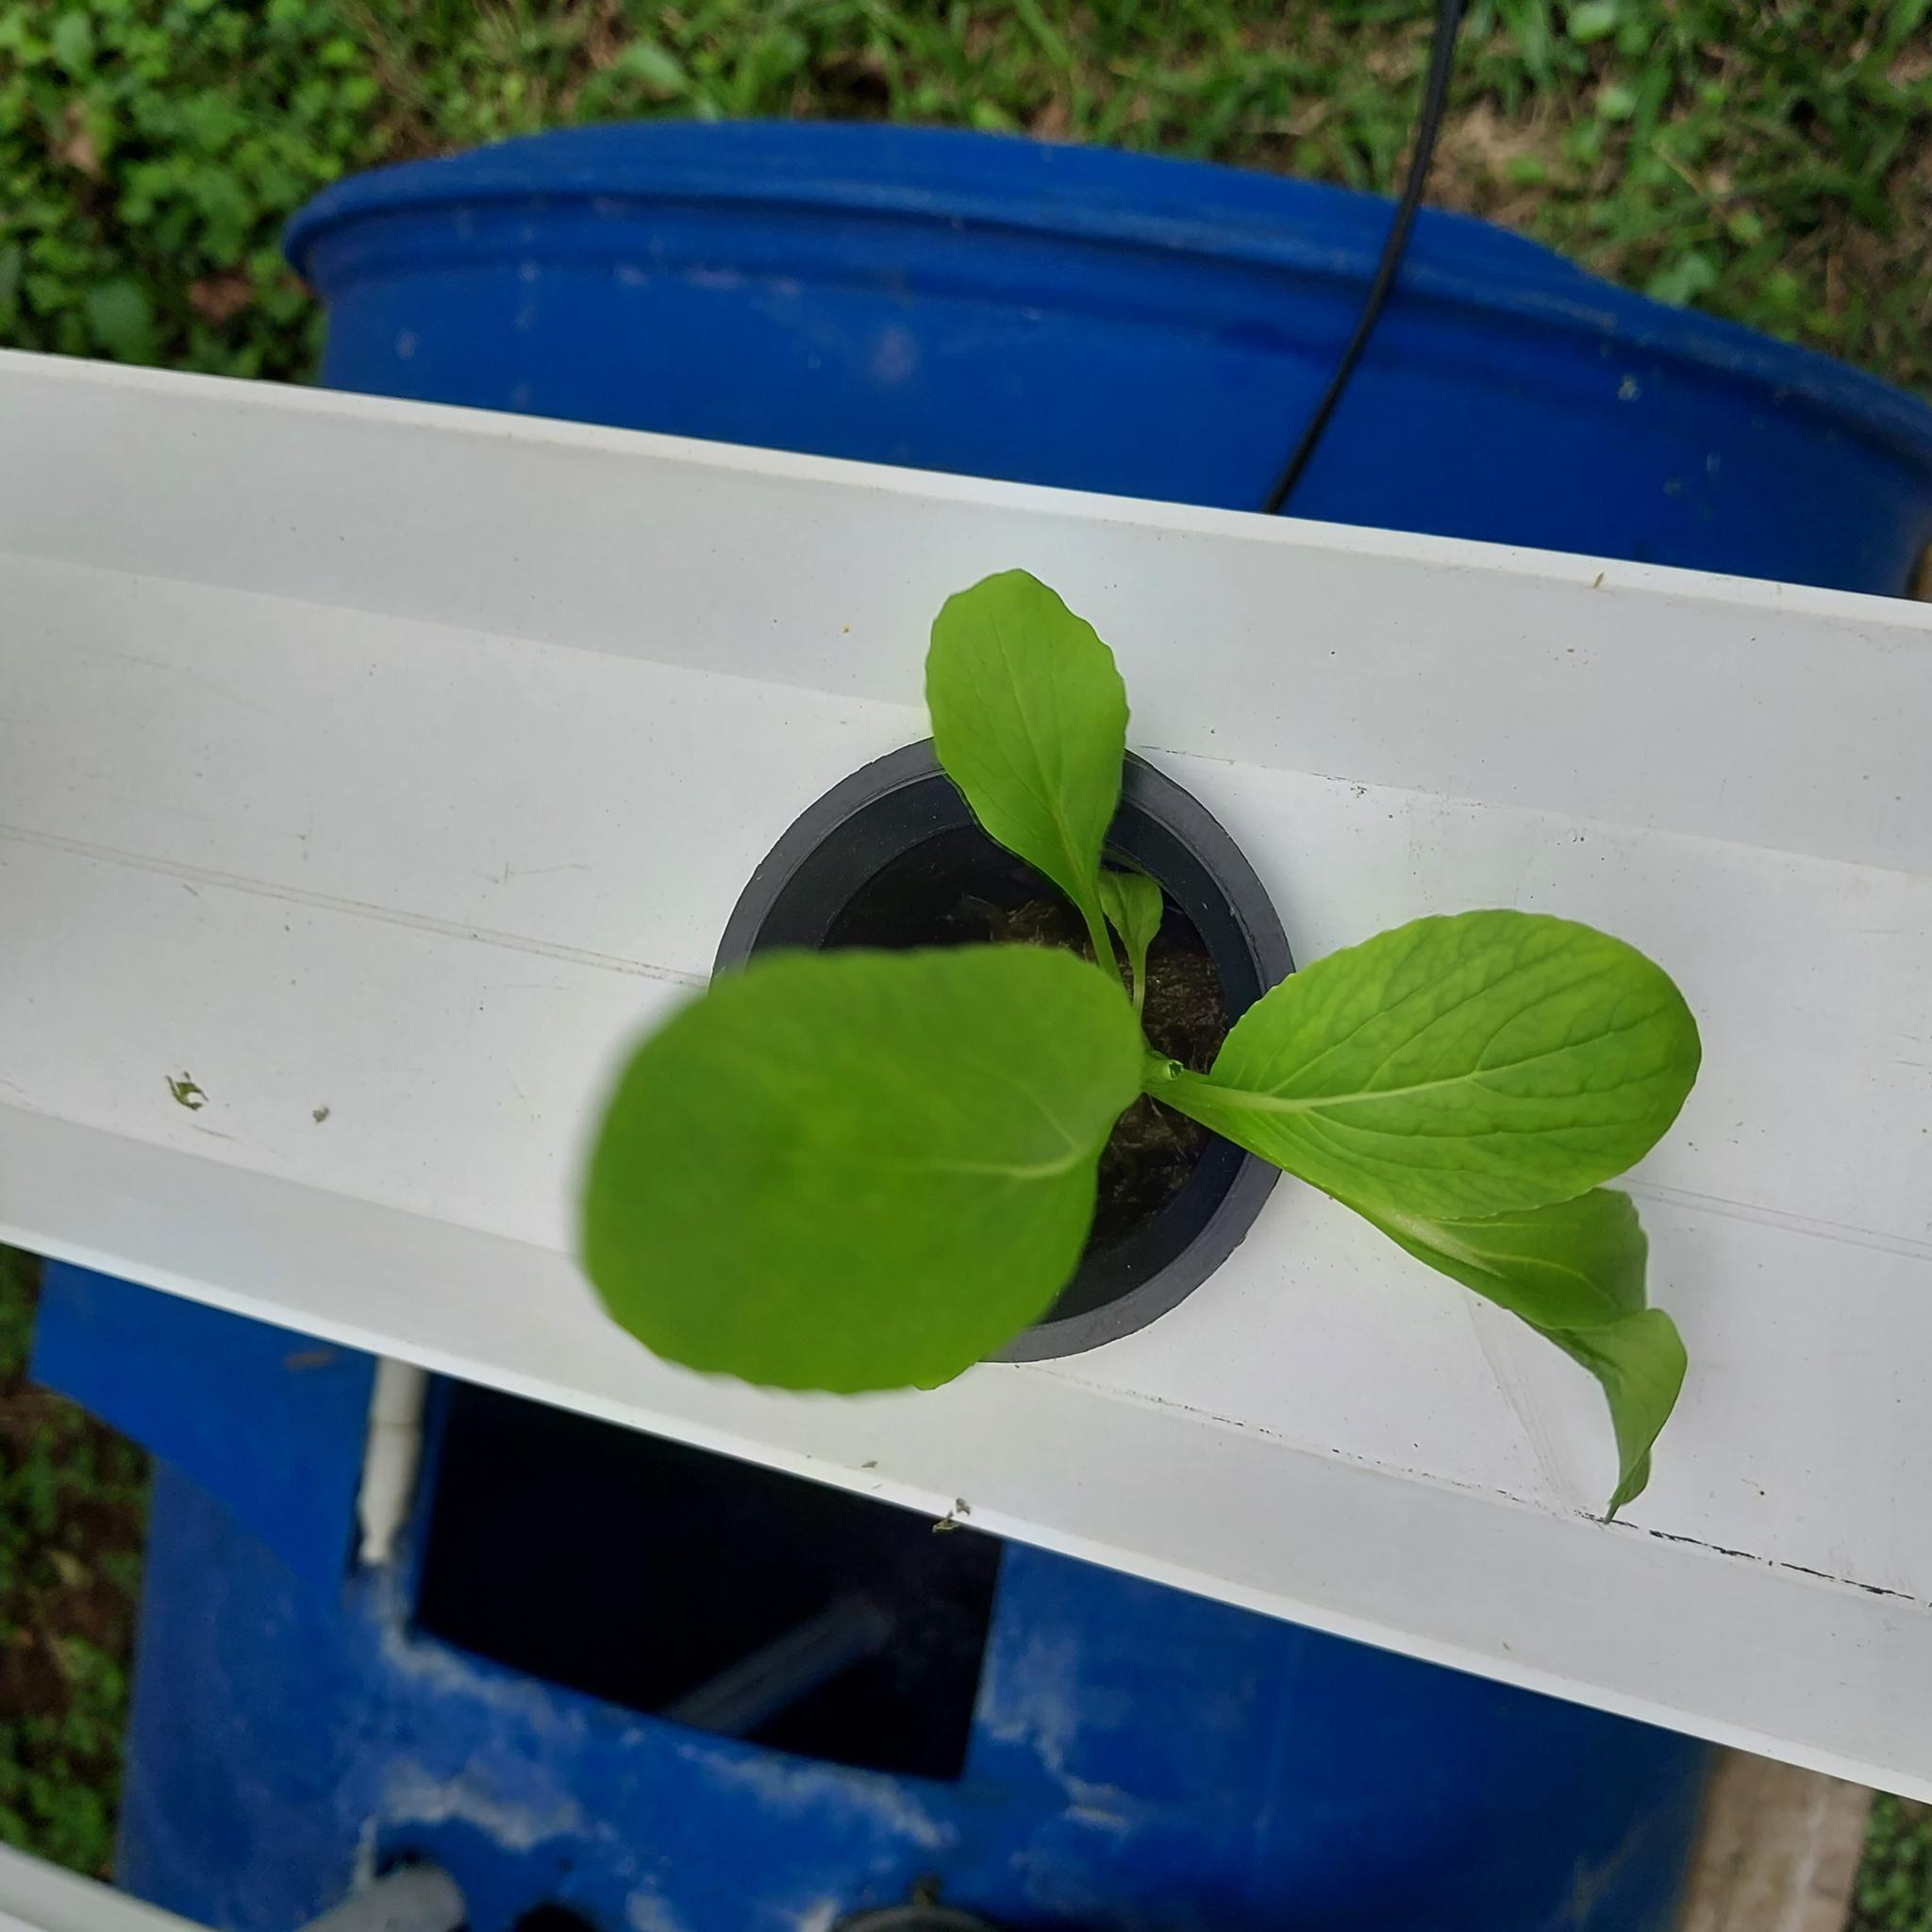Healthy-Pechay: (575, 945, 1139, 1396), (1162, 909, 1709, 1231), (922, 561, 1152, 1024), (111, 150, 241, 246), (150, 90, 260, 173), (81, 276, 161, 363), (602, 37, 690, 103), (1502, 2, 1562, 94), (1644, 249, 1716, 313), (48, 9, 97, 81), (1564, 2, 1626, 42), (1592, 81, 1640, 122), (1502, 152, 1552, 186)
